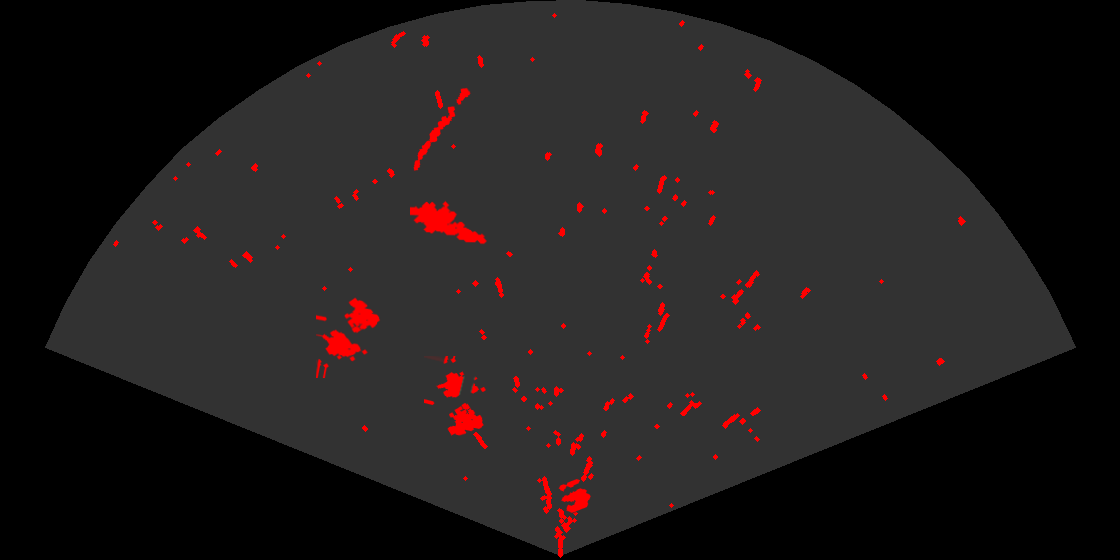ball: (557, 477, 592, 515)
cage: (316, 296, 382, 378), (424, 356, 488, 437)
chain: (412, 86, 472, 172)
frogman: (410, 199, 488, 246)
